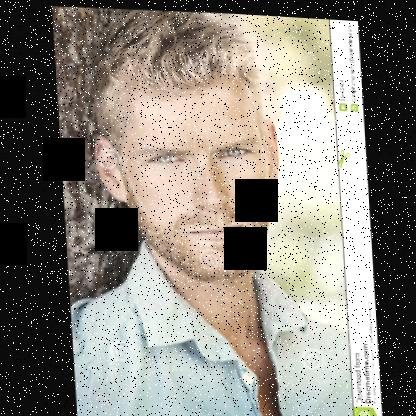Male: (88, 69, 282, 279)
